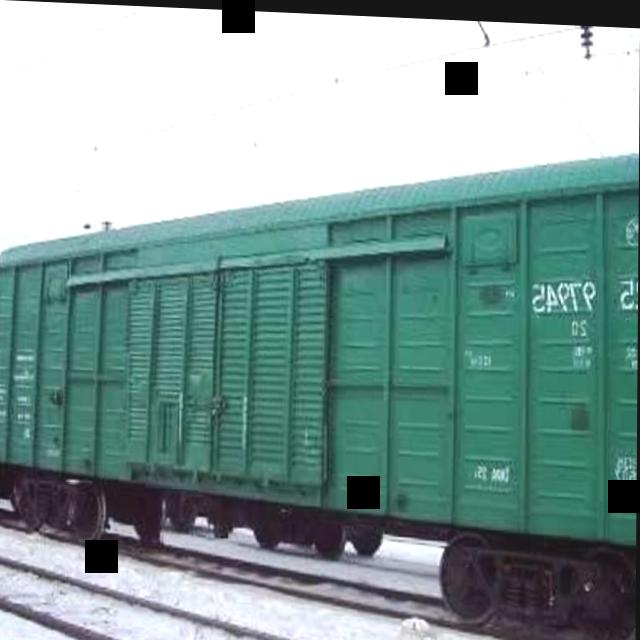boxcar: (0, 113, 639, 640)
